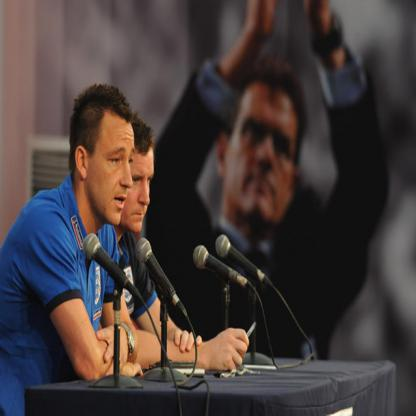face: (229, 88, 298, 218), (90, 122, 135, 224), (124, 144, 154, 233)
